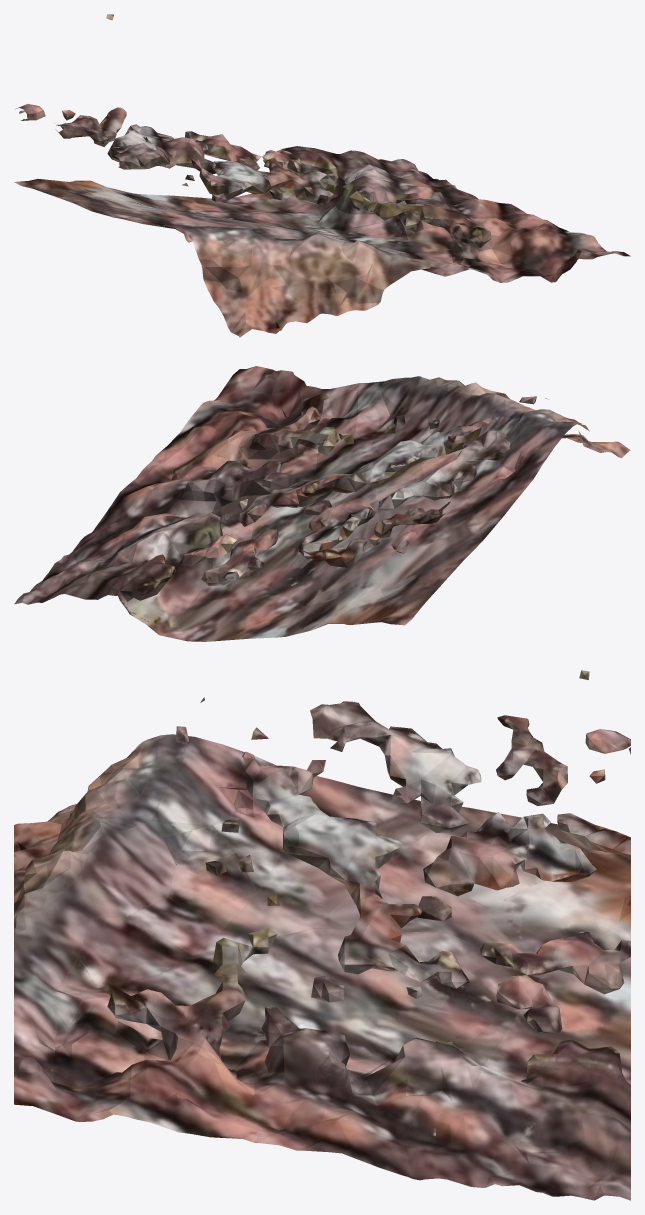
The picture shows the model from 3 angles, top to bottom: view 1: azimuth 30°, elevation 25°; view 2: azimuth 150°, elevation 25°; view 3: azimuth 270°, elevation 25°; orthographic projection. The views are drawn at different scales.
Size of the model in its own units: 1.67 by 0.9595 by 1.67.
4 materials, 4 textured.
